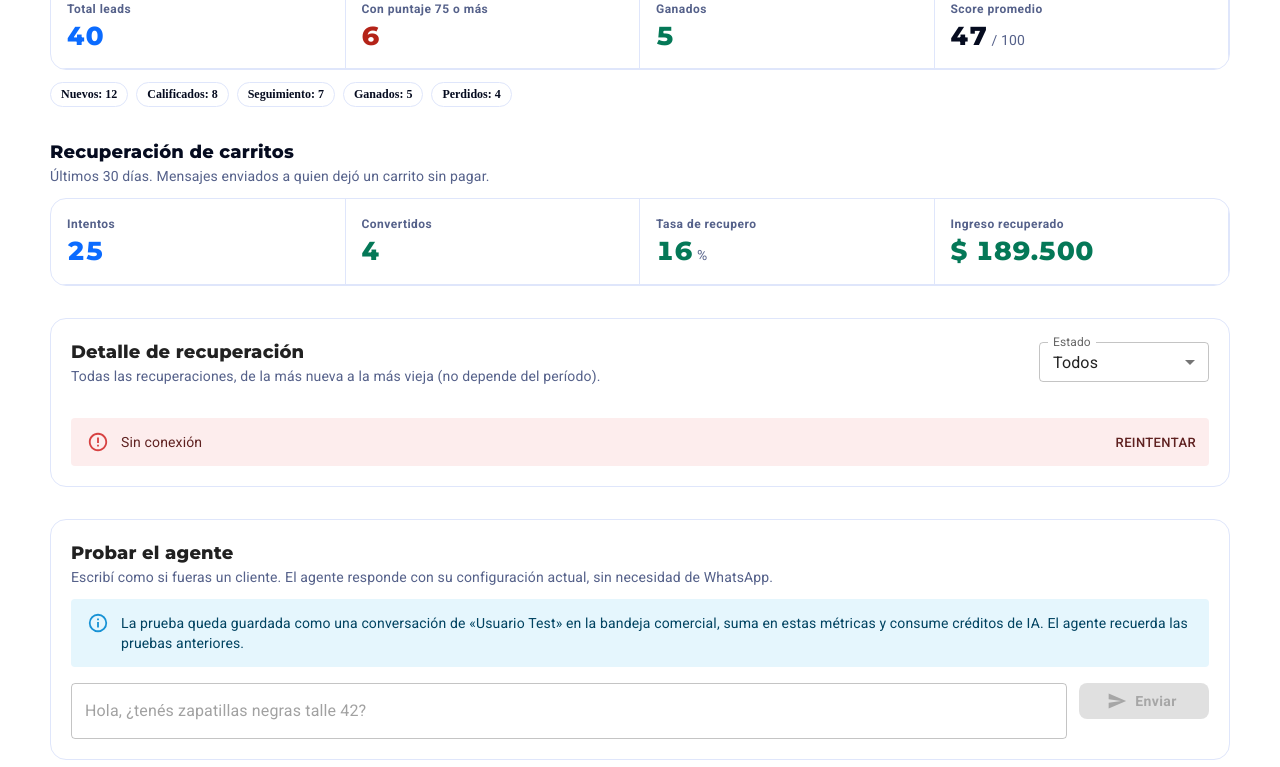
Scenario: Métricas · detalle de recuperación, lo nuevo › si falla la carga lo dice y deja reintentar, en vez de decir que no hay ninguna
This screenshot has width=1280, height=767.
(page scrolled)
Expected: the text "Sin conexión" is shown, [121,434,202,450]
What coordinates should you click on to do the following:
click the button "Reintentar"
I would click on:
 (1156, 443)
Its box is [1111,428,1201,459].
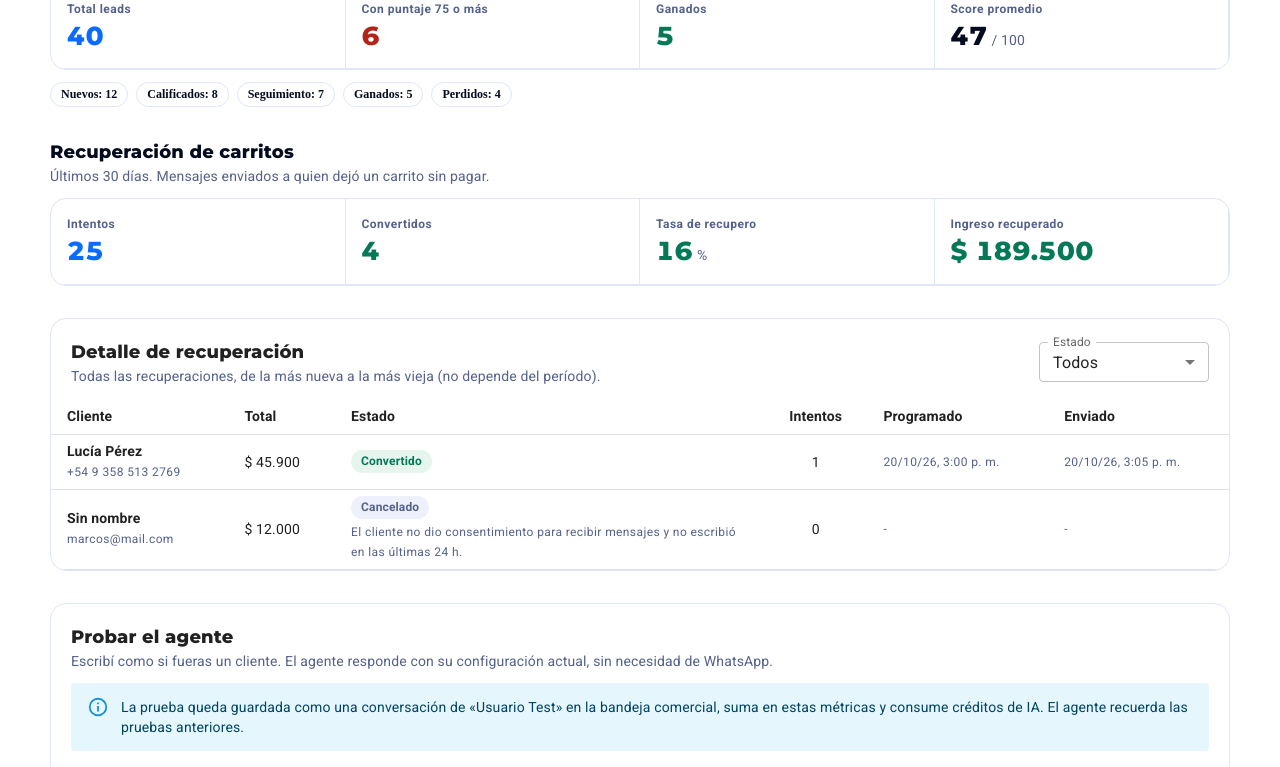
Now the text "Lucía Pérez" is shown, box [67,443,142,459]
